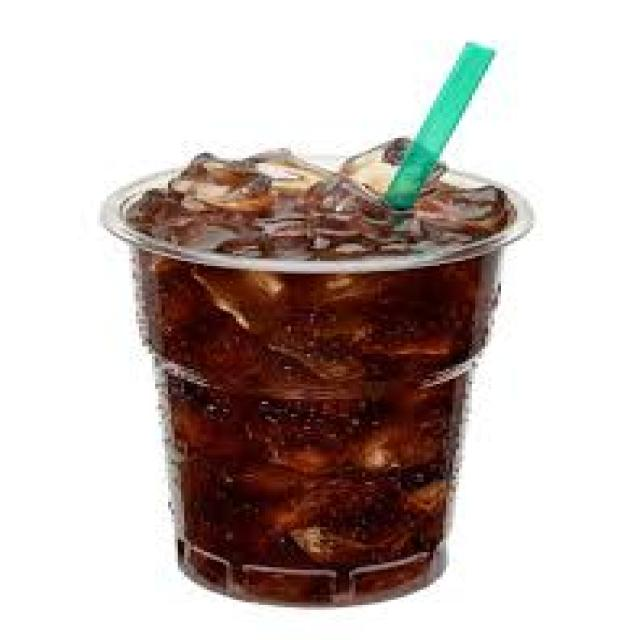bottle: (103, 140, 530, 603)
